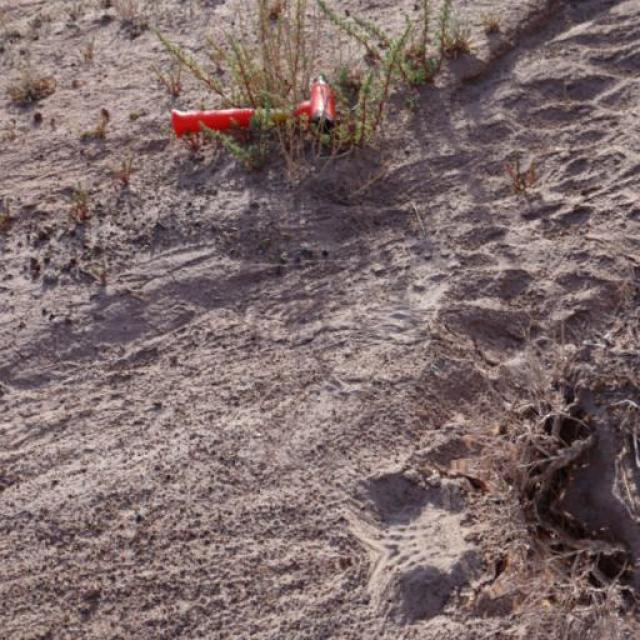mallet: (169, 72, 336, 146)
